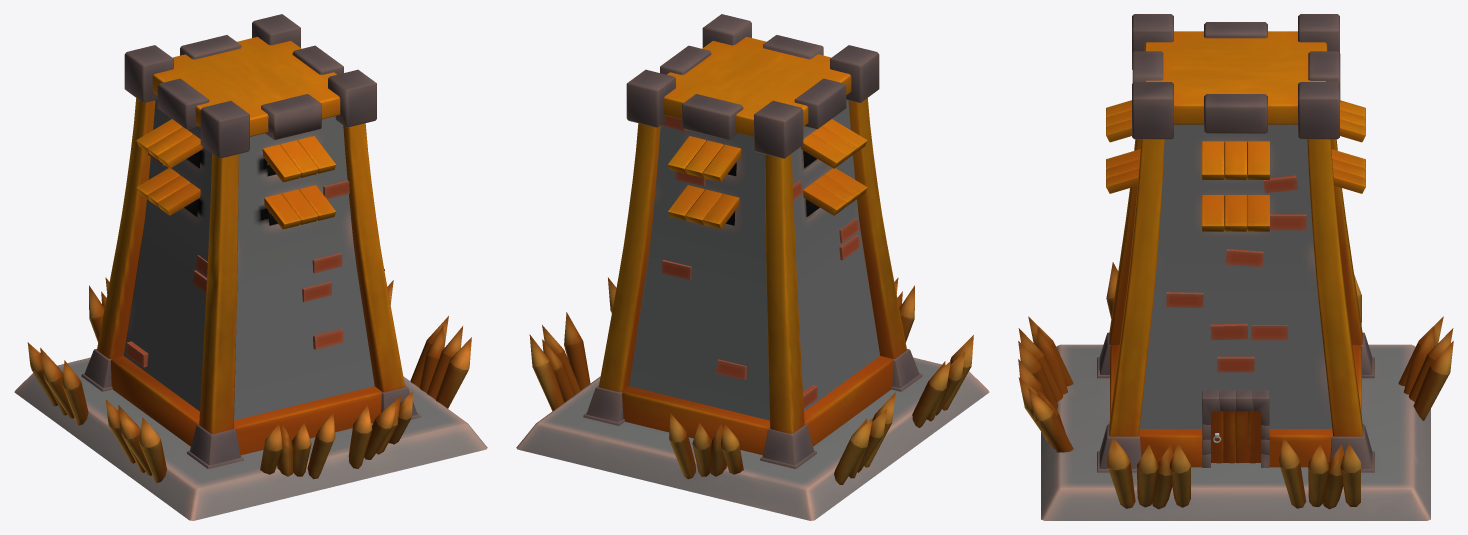
3 renders of one model, left to right at view 1: azimuth 30°, elevation 25°; view 2: azimuth 150°, elevation 25°; view 3: azimuth 270°, elevation 25°, orthographic. The views are drawn at different scales.
Visible parts, largest first — view 1: Cylinder.034_Baked; view 2: Cylinder.034_Baked; view 3: Cylinder.034_Baked.
Part boxes in pixels (x1,y1,x2,y2): Cylinder.034_Baked: (14, 14, 487, 520); Cylinder.034_Baked: (516, 14, 989, 520); Cylinder.034_Baked: (1018, 14, 1453, 520).
Bounding box in the file's own units: 200 × 198 × 200.
1 material, 1 textured.
